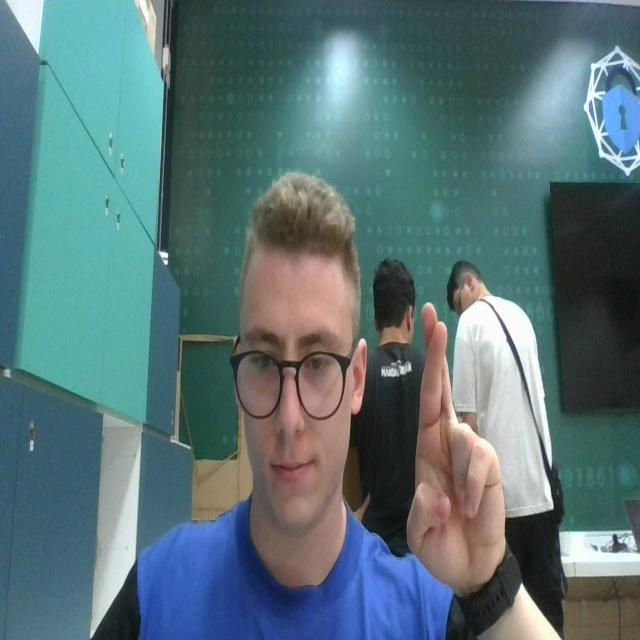R: (406, 299, 508, 583)
